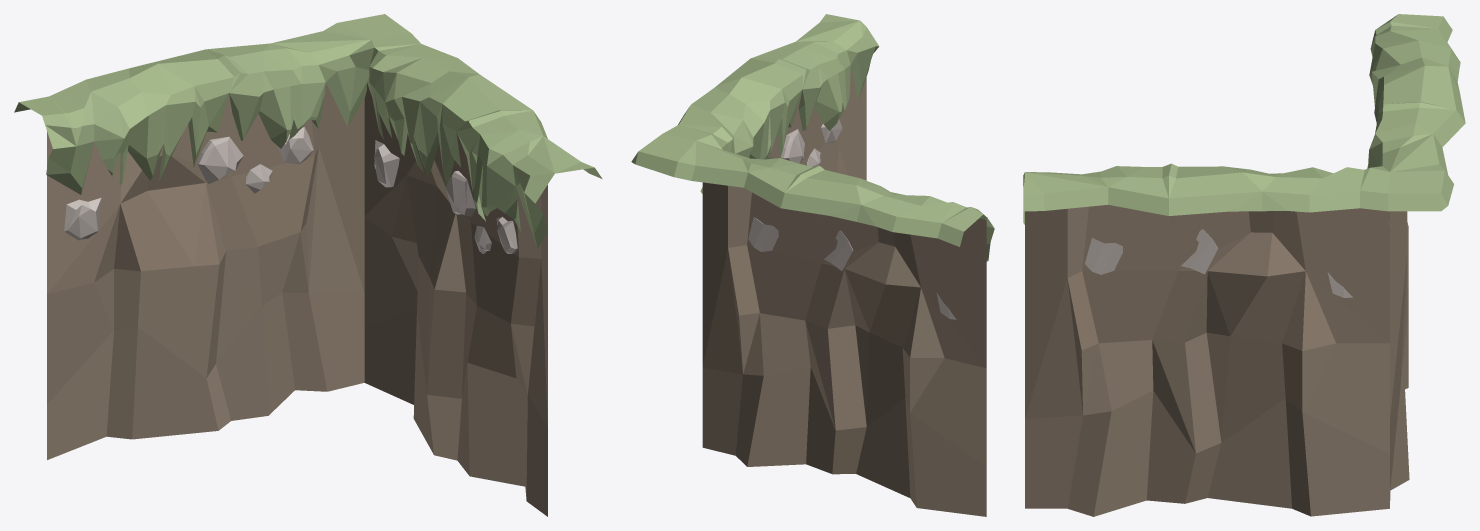
File: ER_Terrain_1x1_GrassCorner_Inverted_001_A2.fbx
3 renders of one model, left to right at view 1: azimuth 30°, elevation 25°; view 2: azimuth 150°, elevation 25°; view 3: azimuth 270°, elevation 25°, orthographic. The views are drawn at different scales.
Parts seen in each view (by area): view 1: ER_Terrain_1x1_GrassCorner_Inverted_001_A2; view 2: ER_Terrain_1x1_GrassCorner_Inverted_001_A2; view 3: ER_Terrain_1x1_GrassCorner_Inverted_001_A2.
Boxes of the visible parts, left/top/right/bottom form: ER_Terrain_1x1_GrassCorner_Inverted_001_A2: left=14, top=14, right=602, bottom=516; ER_Terrain_1x1_GrassCorner_Inverted_001_A2: left=631, top=14, right=994, bottom=516; ER_Terrain_1x1_GrassCorner_Inverted_001_A2: left=1023, top=14, right=1465, bottom=516.
Bounding box in the file's own units: 1.21 × 1.06 × 1.21.
